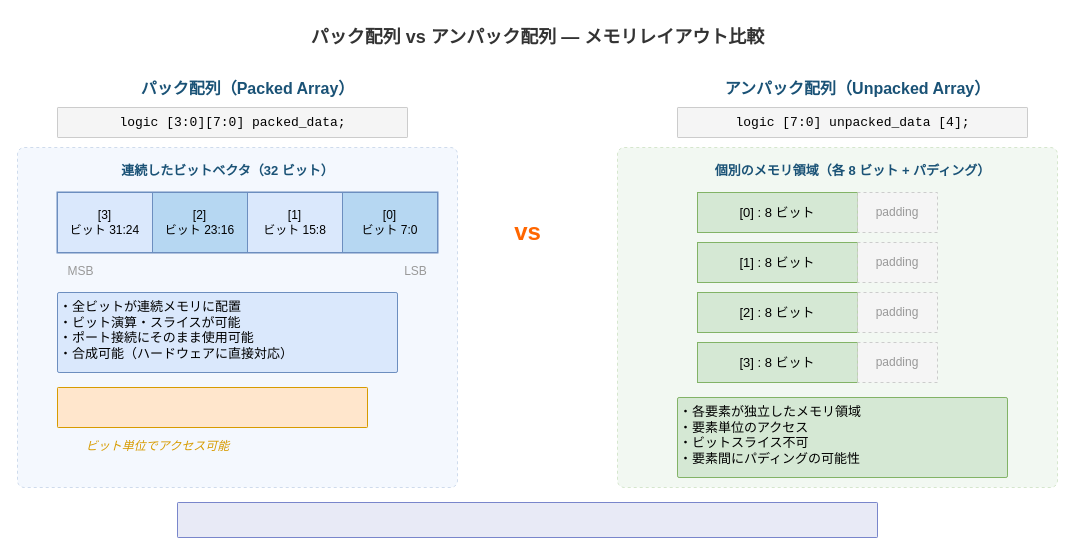
The diagram is 1075 pixels wide and 555 high, and some of its shapes have lost their labels. The shapes that lost their labels are listed below. From the top down, each one's centre as x and y in pixels, then its label:
point 212,407: packed_data[1] = 8'hFF; packed_data[2][3:0] = 4'b1010;
point 527,520: 使い分けの指針 ：パック → ビット操作・ポート接続 | アンパック → メモリ配列・テストベンチ
